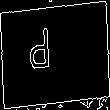P_S: (43, 28, 67, 82)
